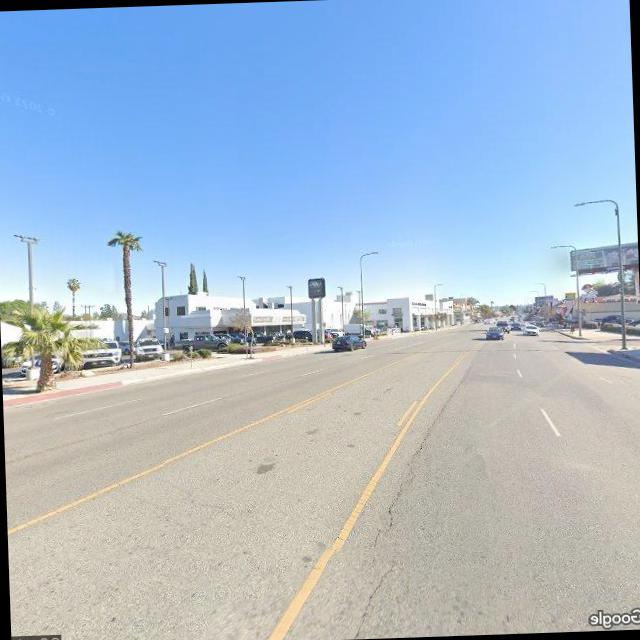pothole: (370, 428, 440, 547), (338, 560, 400, 638)
